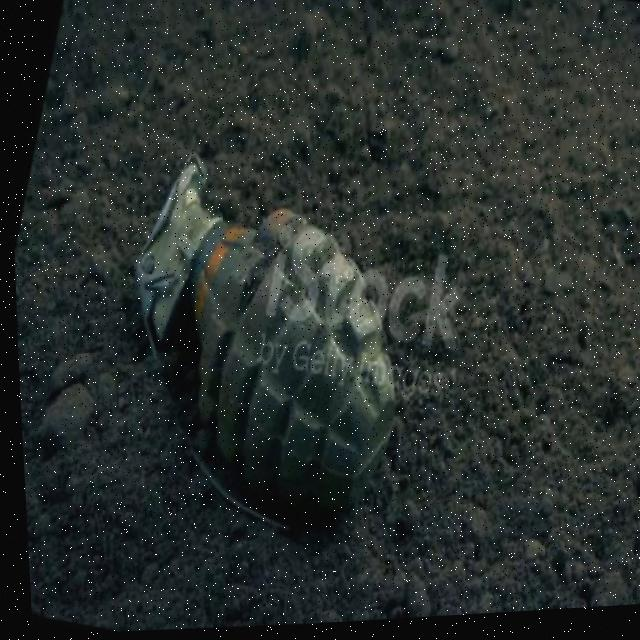grenade: (70, 127, 456, 566)
